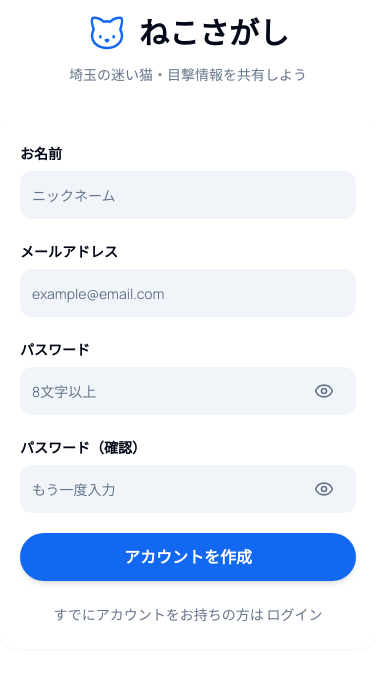
Scenario: Register › メール形式が不正な時、フィールド下にエラーが表示されること
Type "invalid-email" into the field labelled "メールアドレス" at (188, 293), box [20,269,356,317]
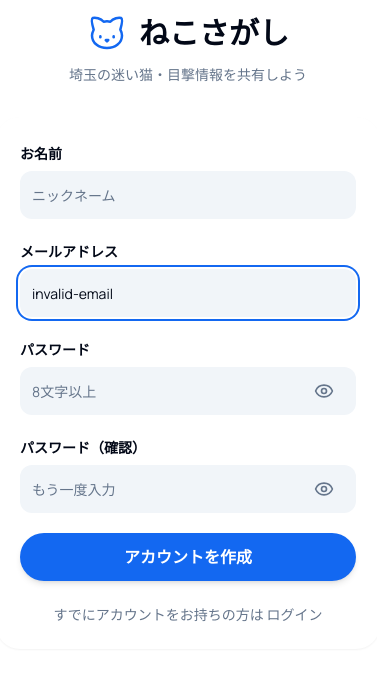
Type "password123" into the password field labelled "パスワード" at (188, 391), box [20,367,356,415]
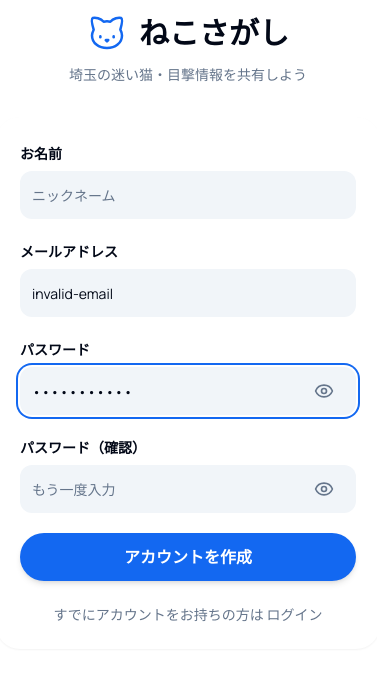
Type "password123" into the password field labelled "パスワード（確認）" at (188, 489), box [20,465,356,513]
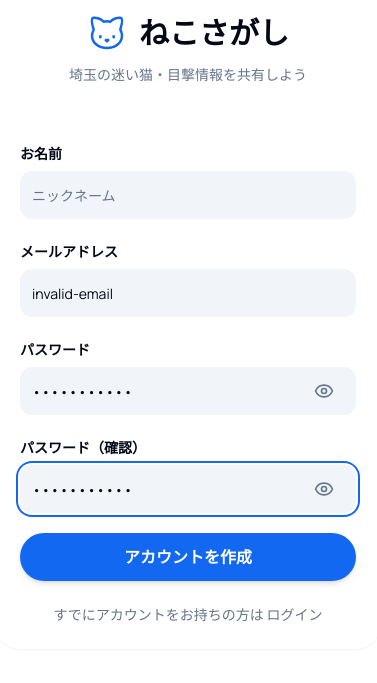
Click the button "アカウントを作成" at (188, 557), box [20,533,356,581]
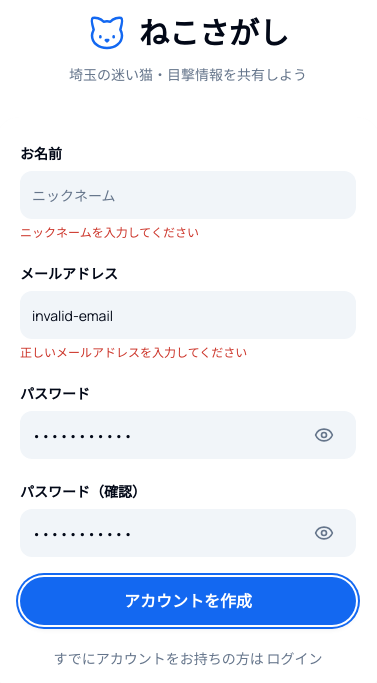
Expected: the text "正しいメールアドレスを入力してください" is shown, [20,344,247,361]
